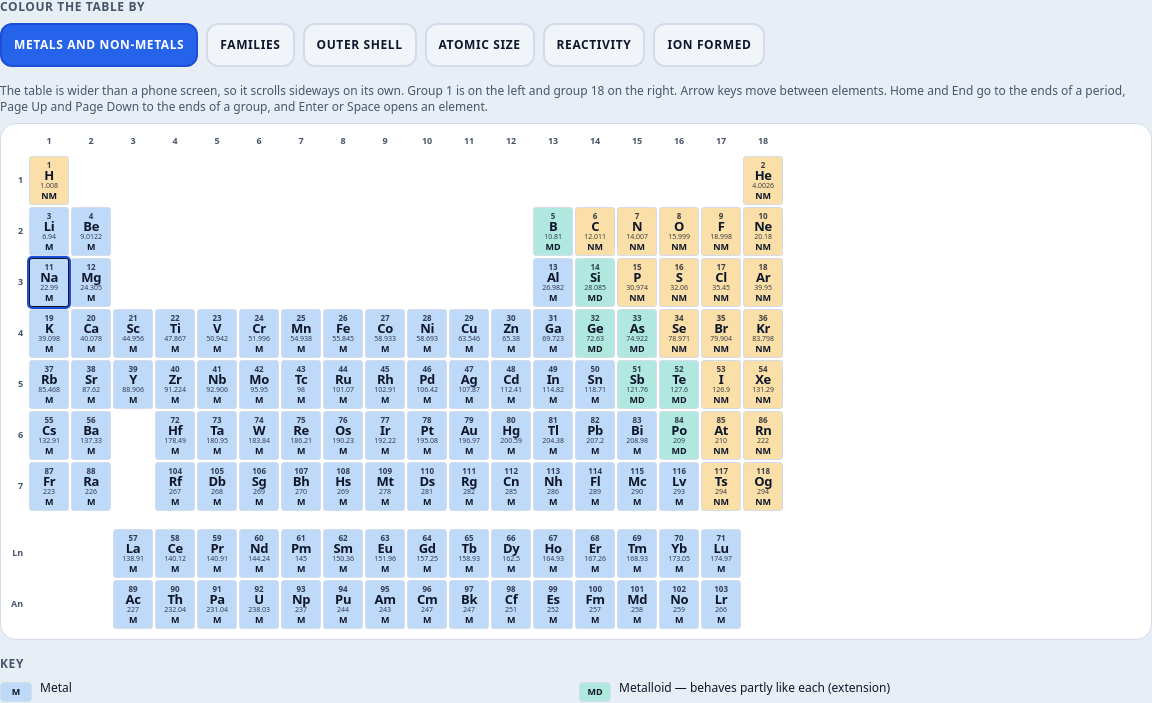
Scenario: PeriodicTable — the detail panel › disables the step buttons at the ends of the range
Click the button "1 H 1.008 NM": point(49, 180) [29,156,69,204]
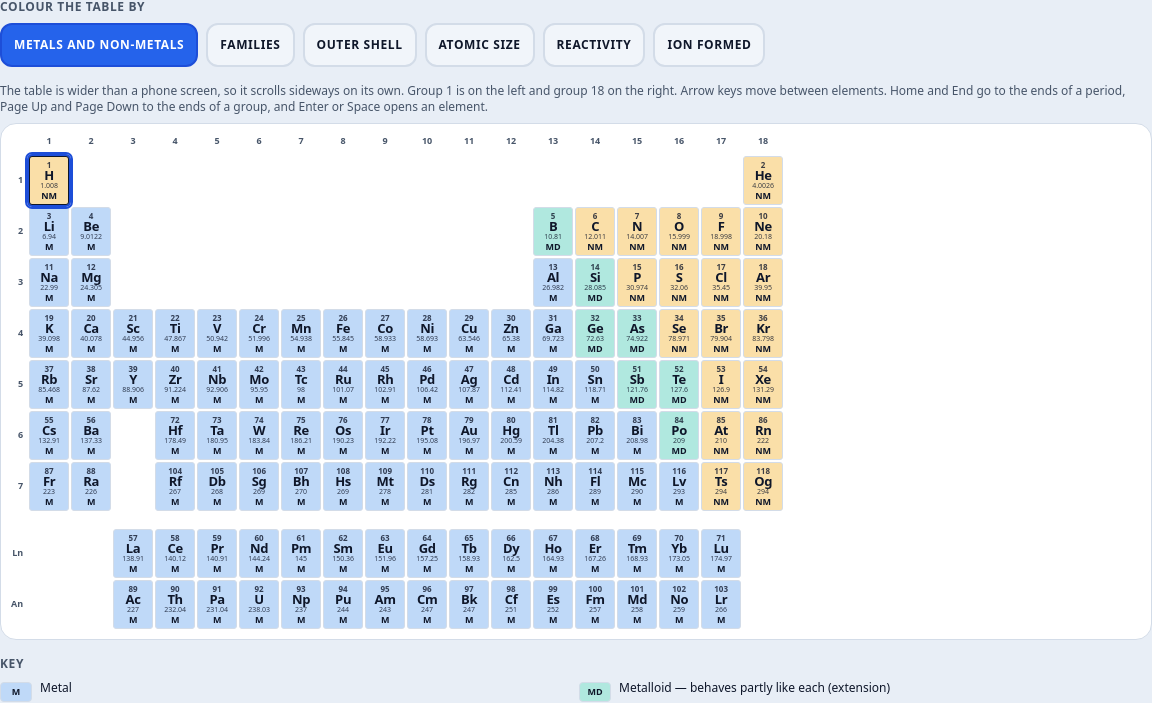
Click the button "118 Og 294 NM": point(763, 486) [743,462,783,510]
(page scrolled)
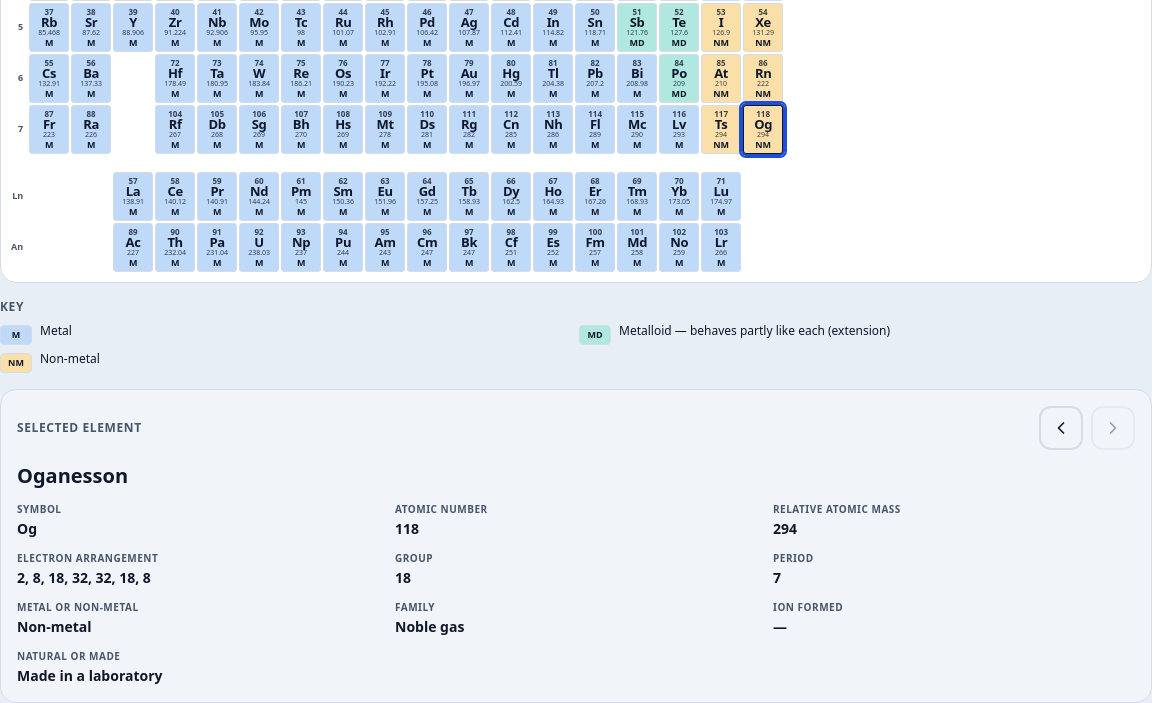
Check: the button named "Next element" is disabled, box [1091,406,1135,450]
